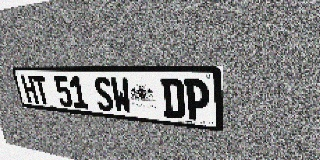1: (67, 76, 88, 109)
5: (53, 76, 74, 108)
D: (160, 78, 185, 119)
H: (20, 75, 39, 104)
P: (184, 79, 210, 122)
S: (93, 77, 115, 112)
T: (32, 75, 51, 105)
W: (110, 77, 133, 114)
